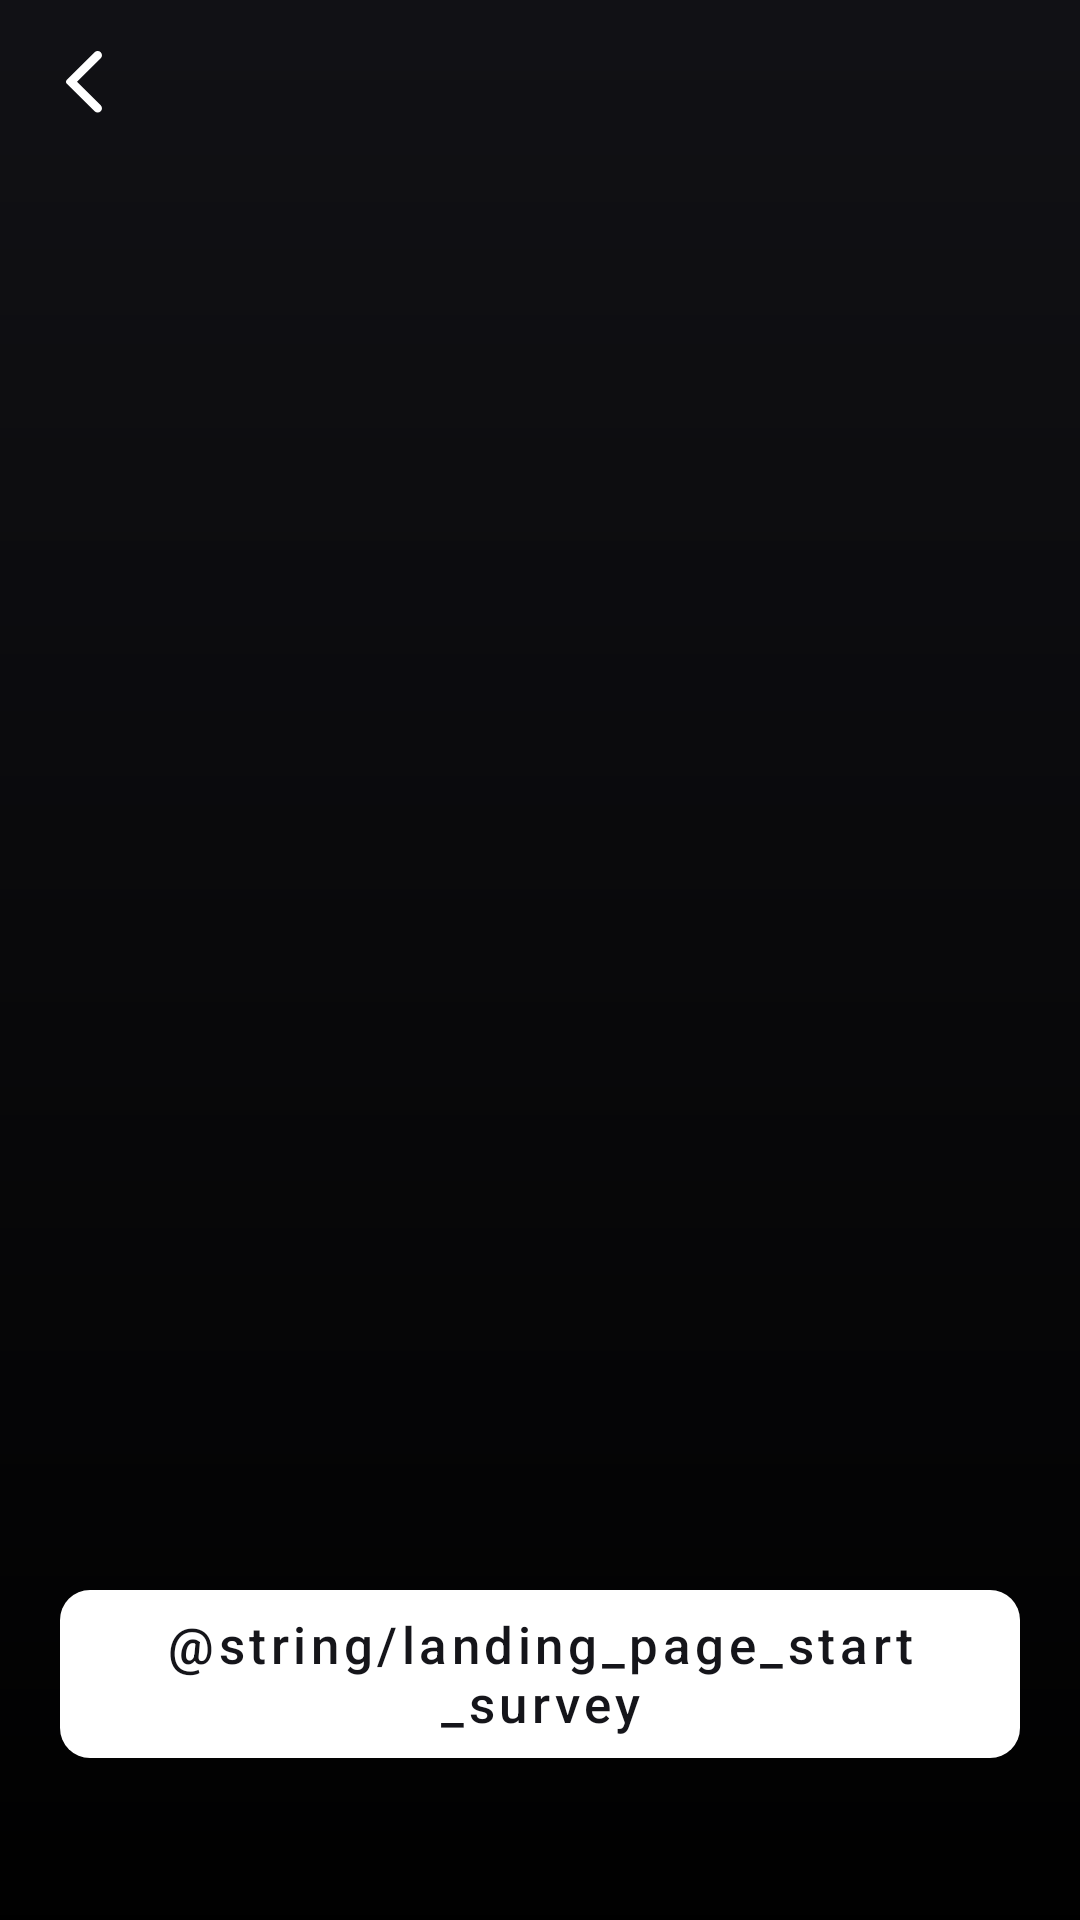

Where to tap for icons on this 1080 × 1920 app screen, as (x,y):
arrow left: (84,82)
